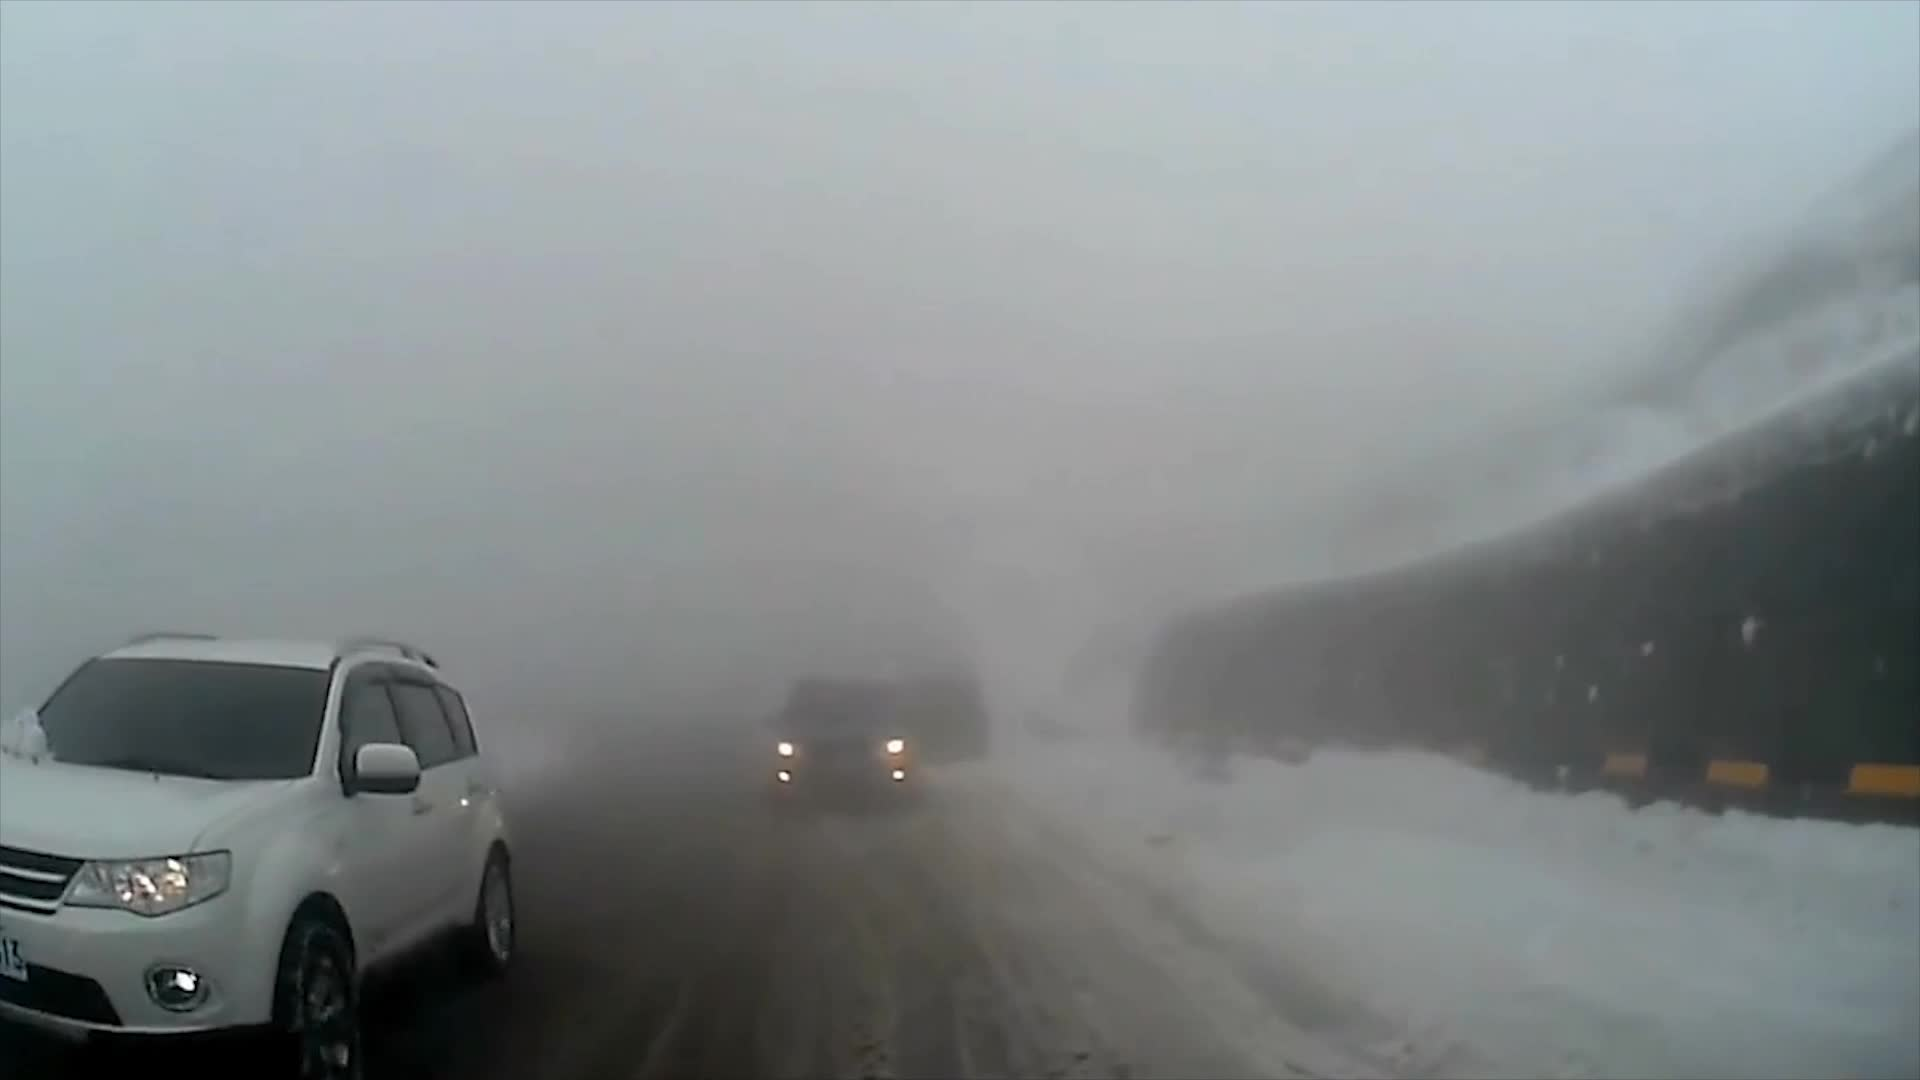vehicle: (0, 628, 520, 1080), (760, 674, 920, 814)
